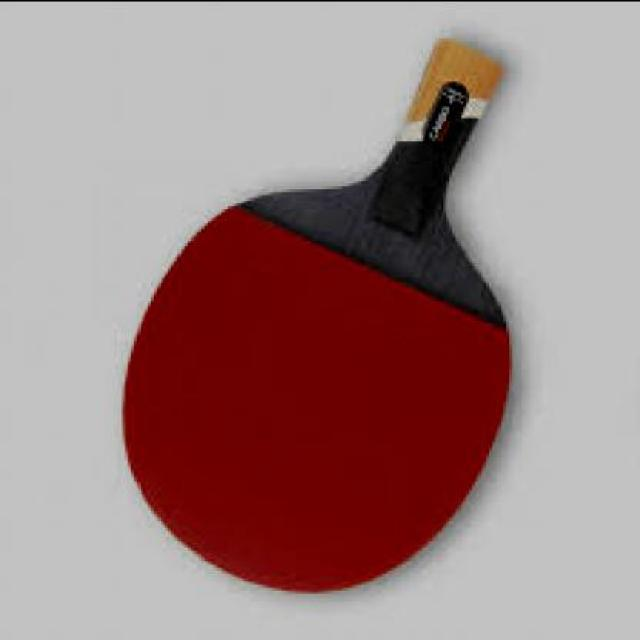table_tennis_racket: (122, 40, 512, 597)
